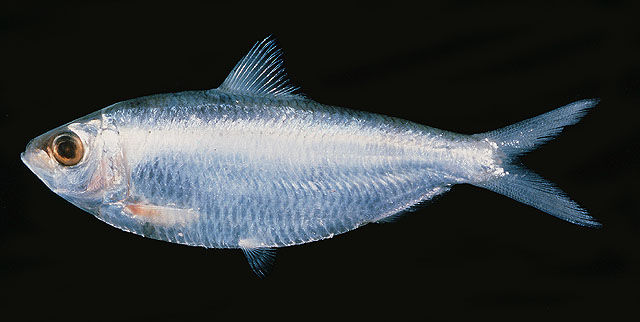fish: (19, 34, 602, 279)
